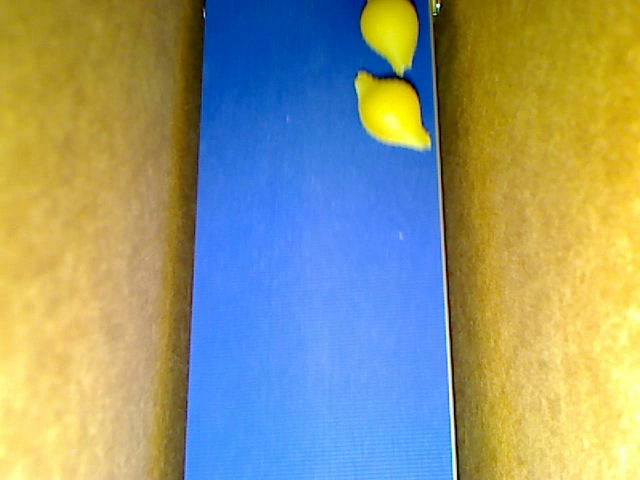shell: (354, 70, 431, 151), (360, 1, 418, 76)
